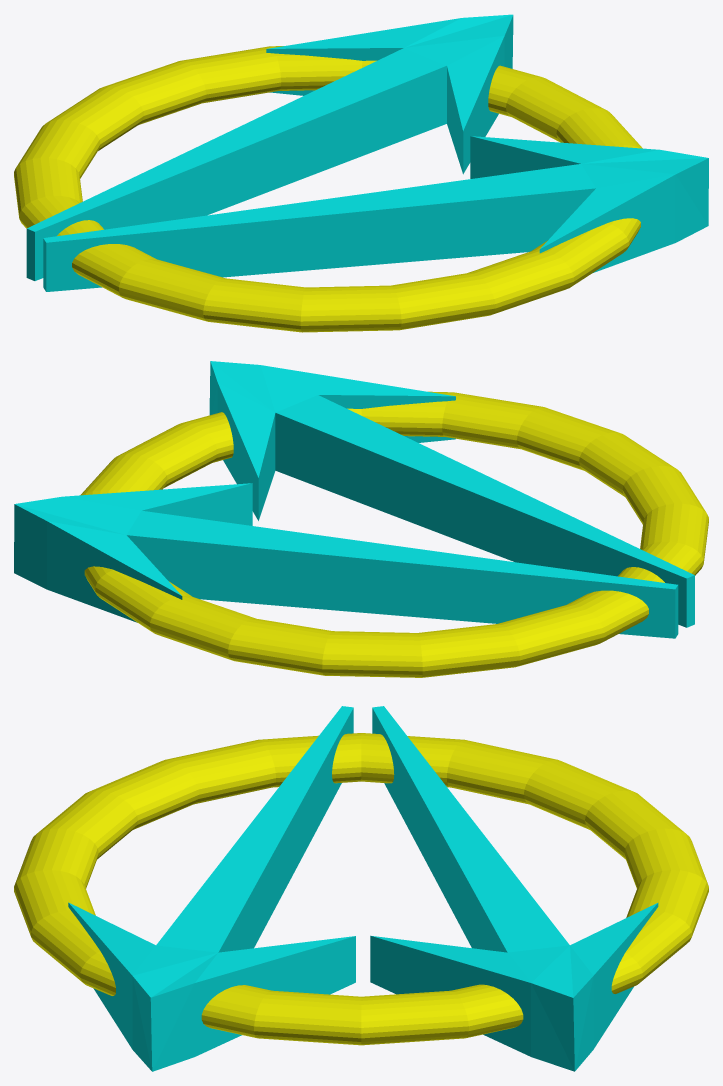
File: DoubleShot.fbx
The picture shows the model from 3 angles, top to bottom: view 1: azimuth 30°, elevation 25°; view 2: azimuth 150°, elevation 25°; view 3: azimuth 270°, elevation 25°; orthographic projection. The views are drawn at different scales.
Parts seen in each view (by area): view 1: polySurface8; view 2: polySurface8; view 3: polySurface8.
Part boxes in pixels (x1,y1,x2,y2): polySurface8: (14, 14, 708, 332); polySurface8: (14, 361, 708, 677); polySurface8: (14, 706, 708, 1071).
Size of the model in its own units: 10.02 by 1.14 by 9.7.
